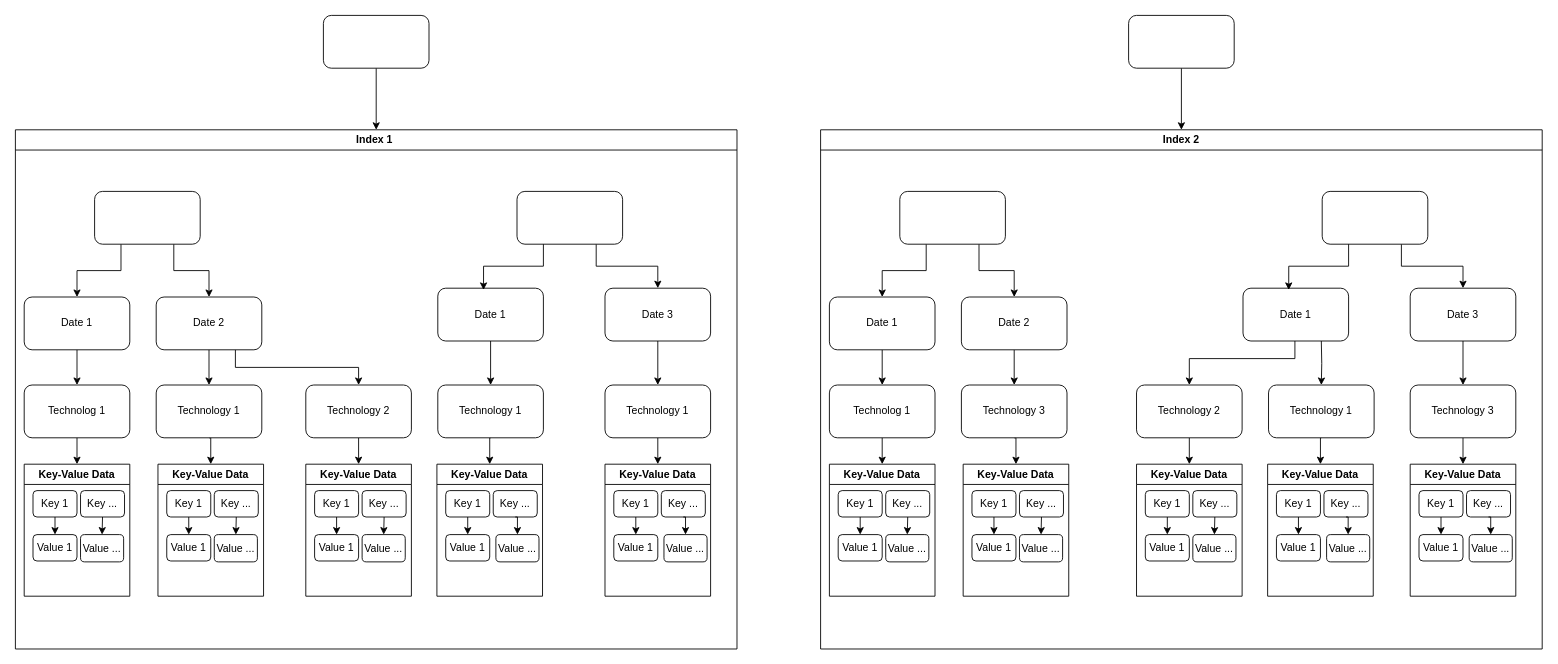
Some shapes in this 1558 by 664 pixel diagram are drawn without their labels. Here are the shapes that lost their labels. From the top down, the centre of each, then its label:
(376,41): Log Indexer 1
(1181,41): Log Indexer 2
(147,217): Tenant 1
(569,217): Tenant 2
(952,217): Tenant 3
(1374,217): Tenant 4
